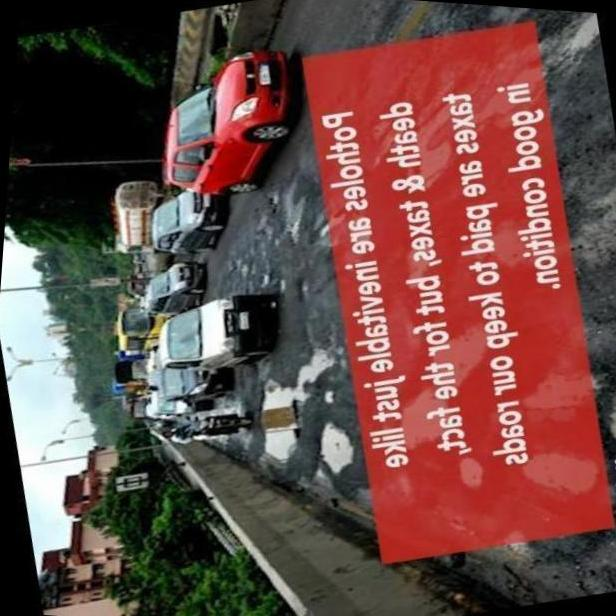pothole: (244, 338, 334, 464), (509, 446, 604, 501), (317, 402, 356, 474), (280, 164, 311, 243), (457, 452, 488, 494), (607, 383, 616, 436), (302, 278, 312, 298), (274, 276, 286, 292)
